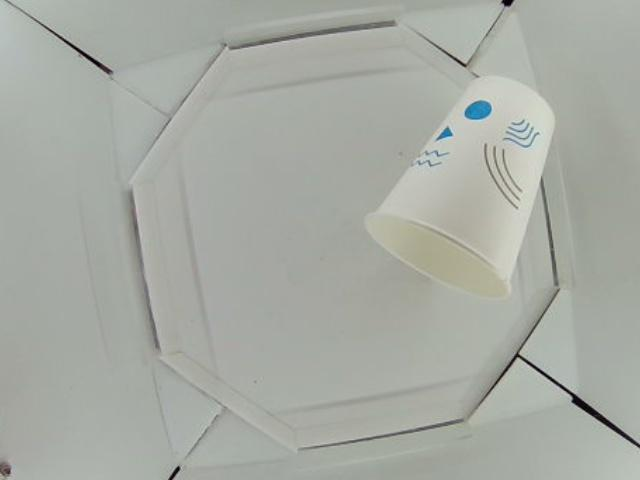Cup: (368, 73, 560, 294)
